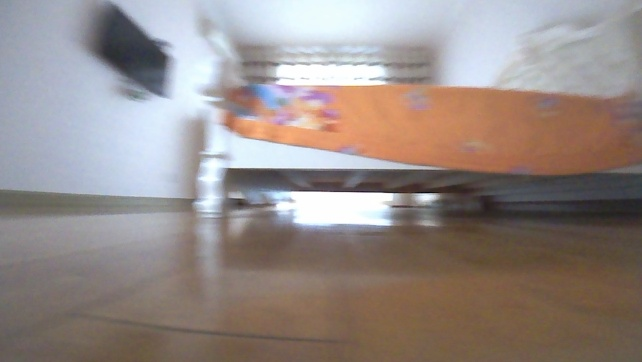bed: (188, 5, 641, 215)
